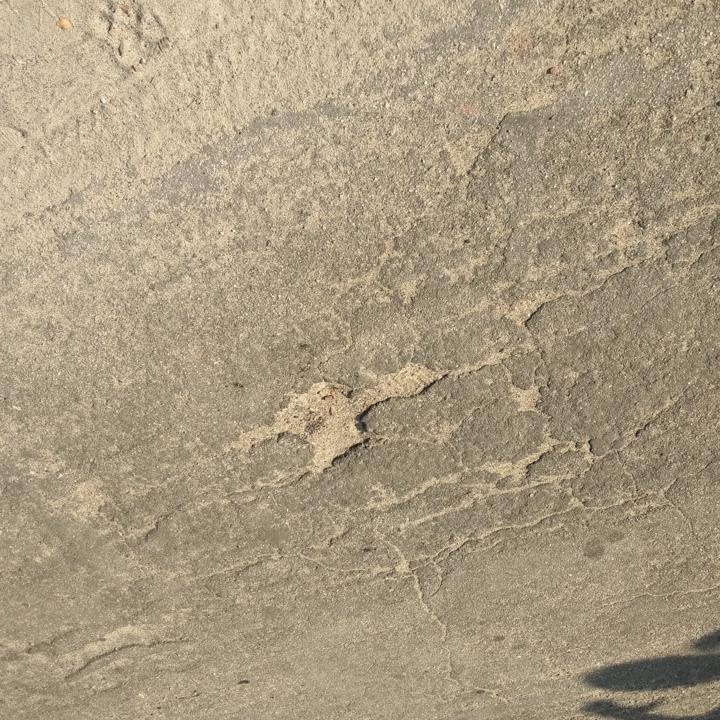pothole: (226, 358, 443, 480)
